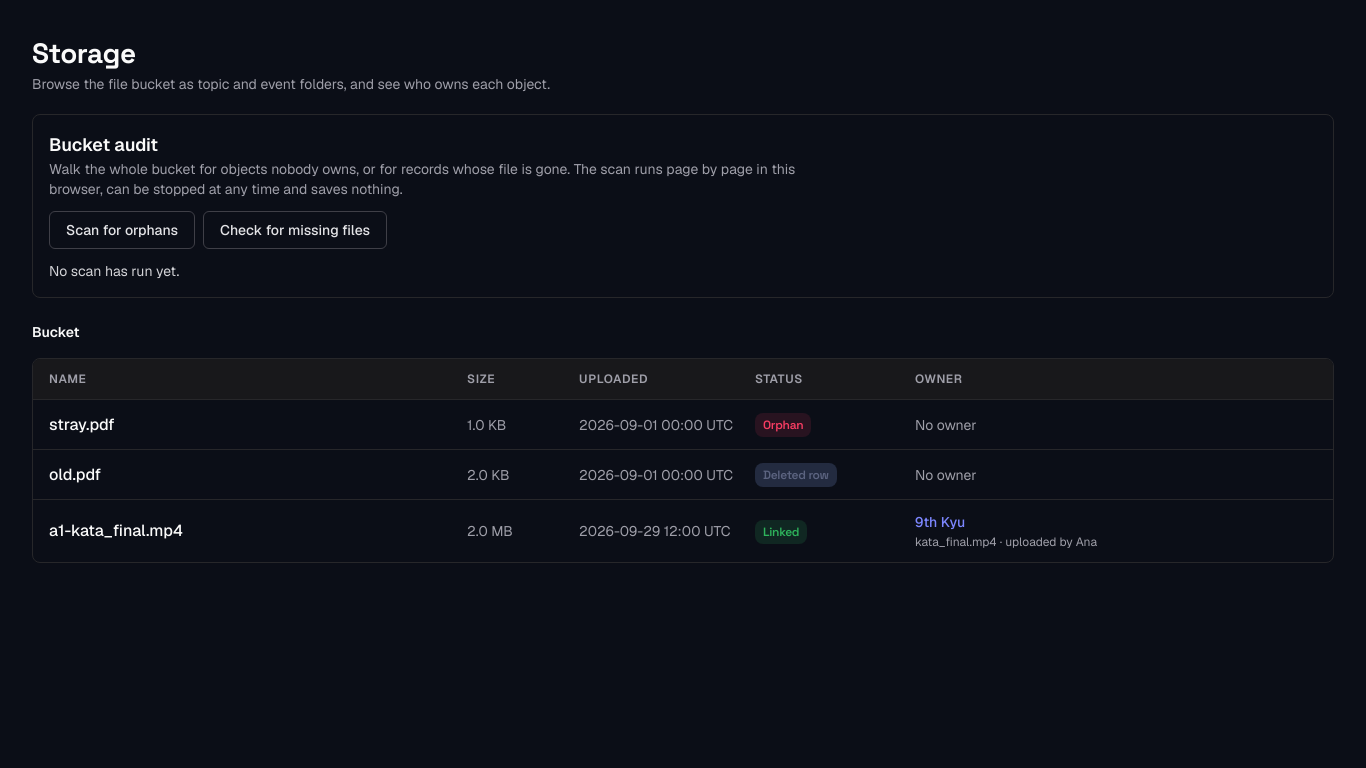
delete orphan action › on 409 shows the server classification and refreshes the badge in results and listing
Click the button "Scan for orphans" at (122, 230), box left=49, top=211, right=195, bottom=249
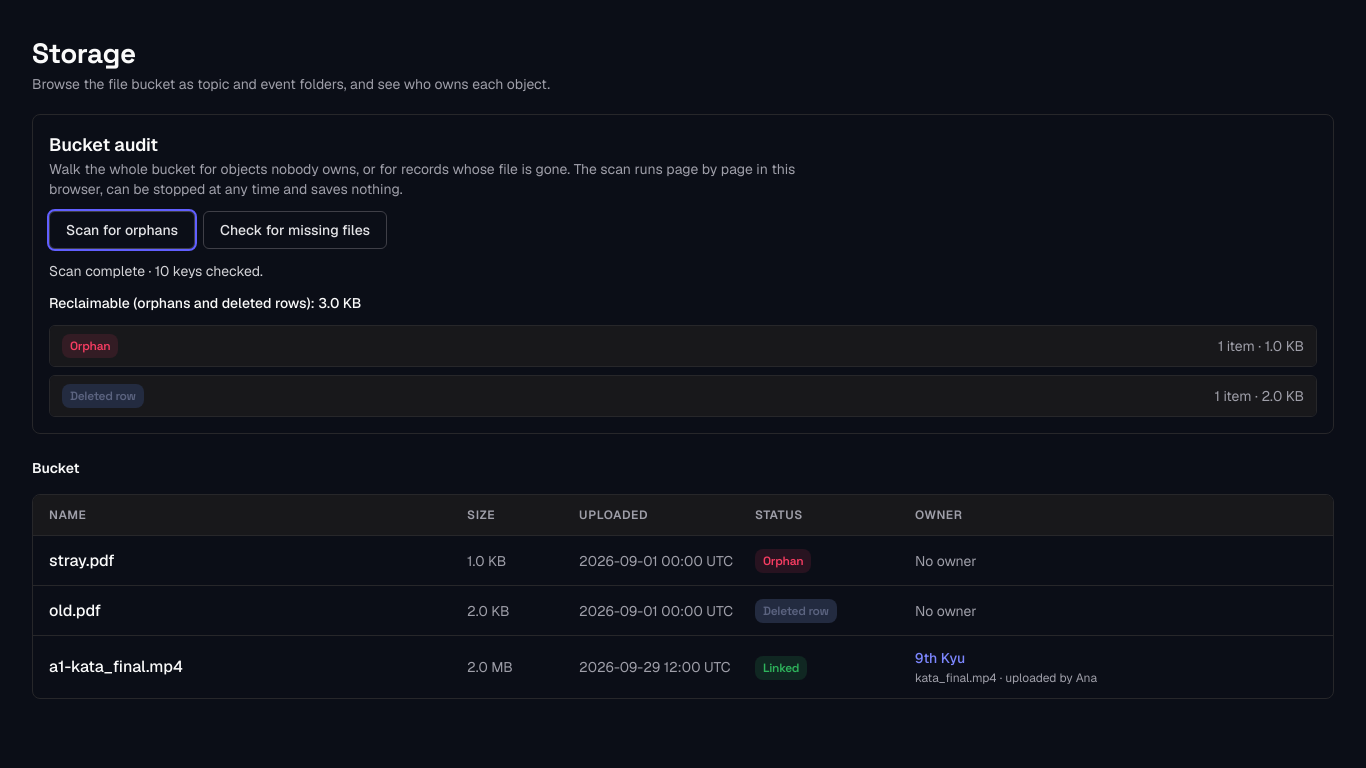
Click the button "Orphan 1 item · 1.0 KB" at (90, 346), box left=50, top=326, right=1316, bottom=366
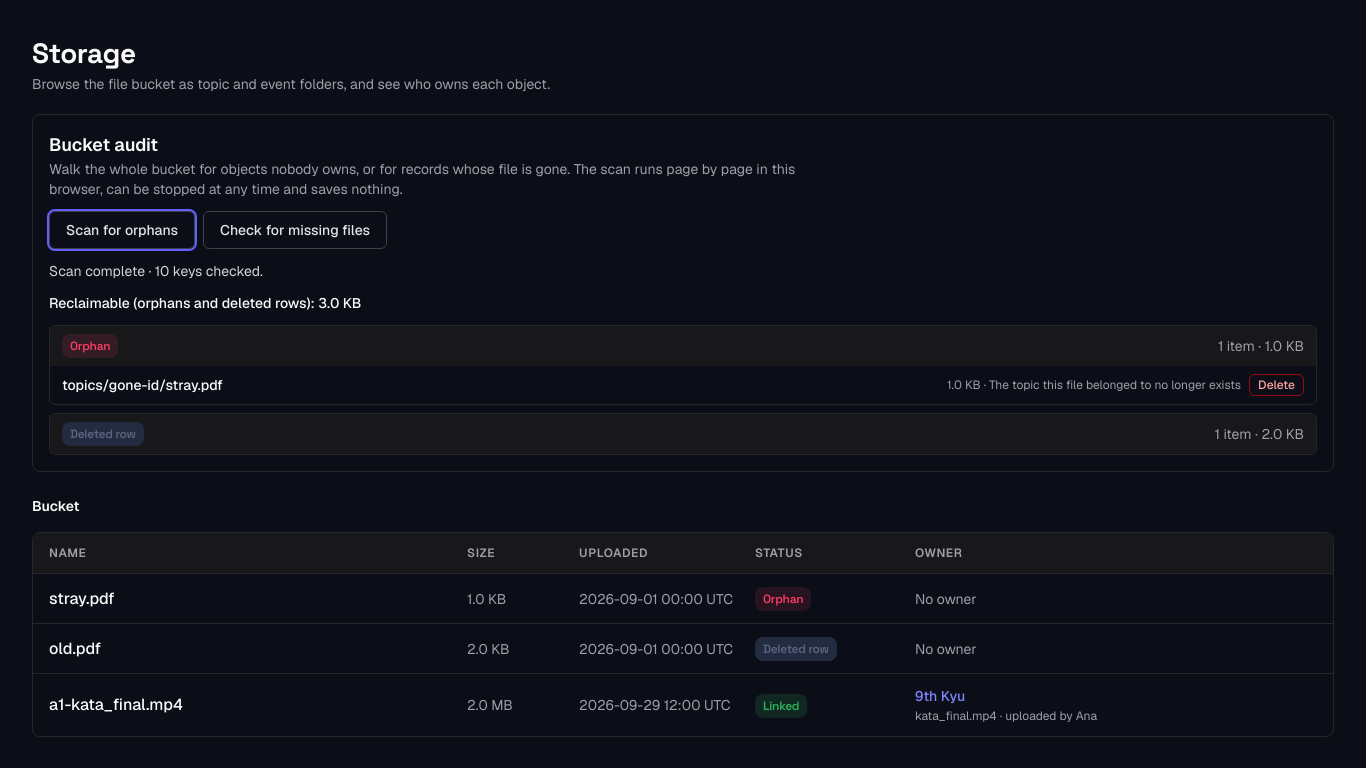
Click the button "Delete" at (1277, 385), box left=1249, top=374, right=1304, bottom=396
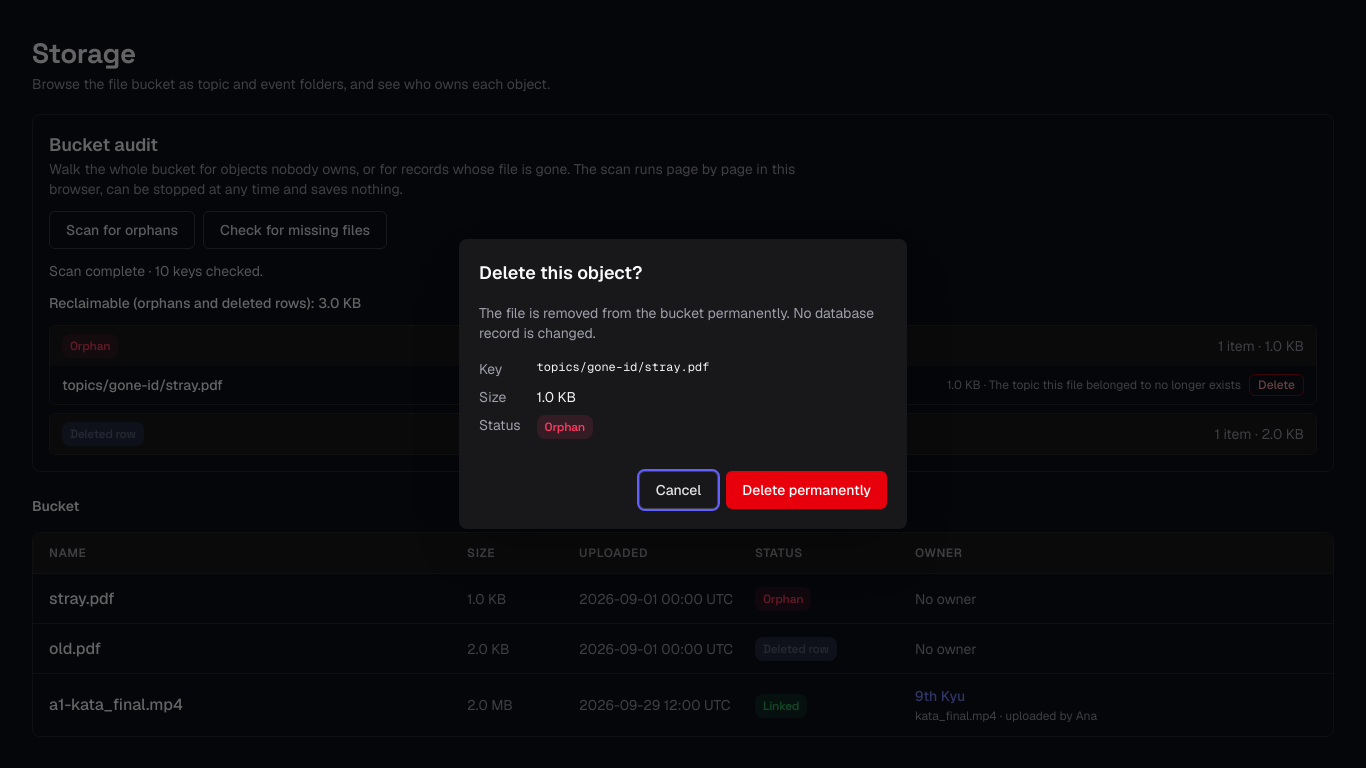
Click the button "Delete permanently" at (807, 490), box left=726, top=471, right=887, bottom=509
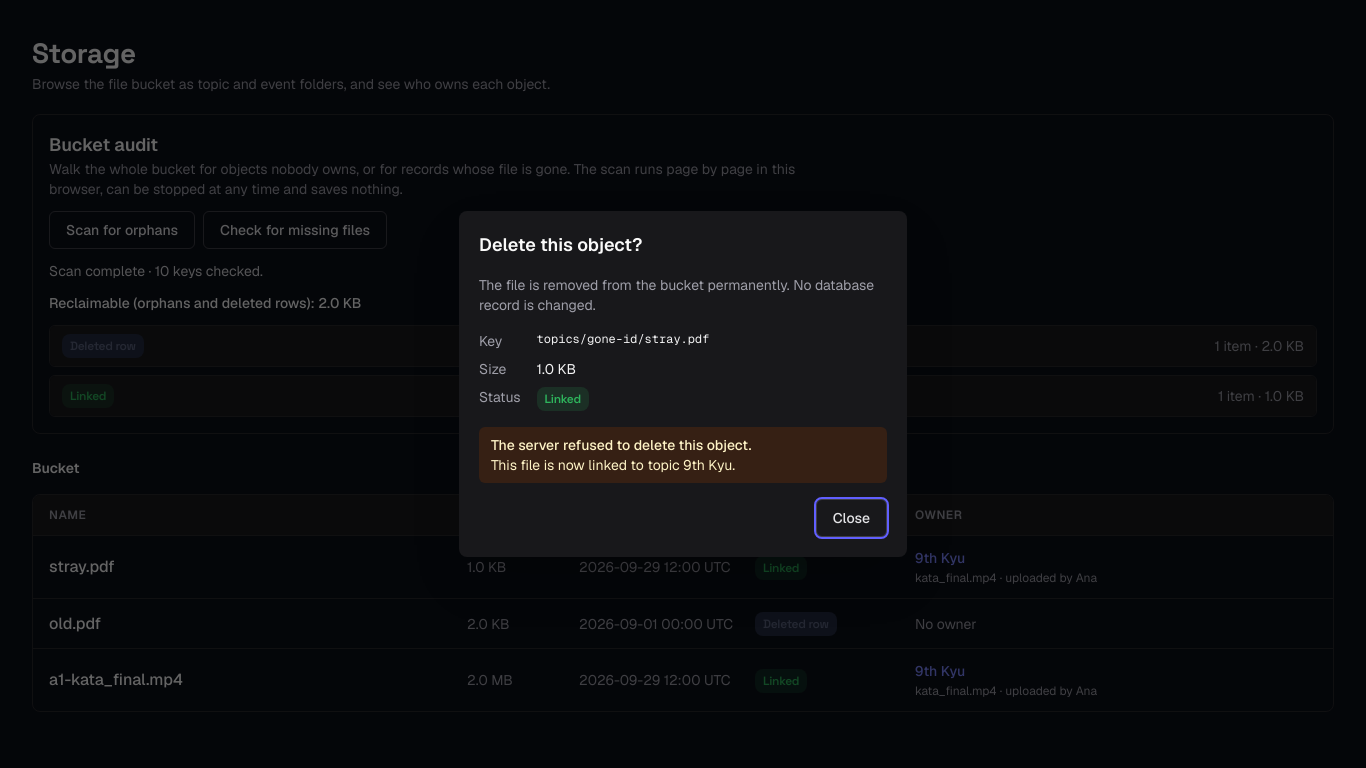
Now the text "The server refused to delete this object." is shown, box left=491, top=436, right=751, bottom=454
Now the element with test id "delete-dialog-status" reads "Linked", box left=545, top=391, right=581, bottom=407
Now the button "Delete permanently" is gone
Click the button "Close" at (851, 518), box left=816, top=499, right=887, bottom=537
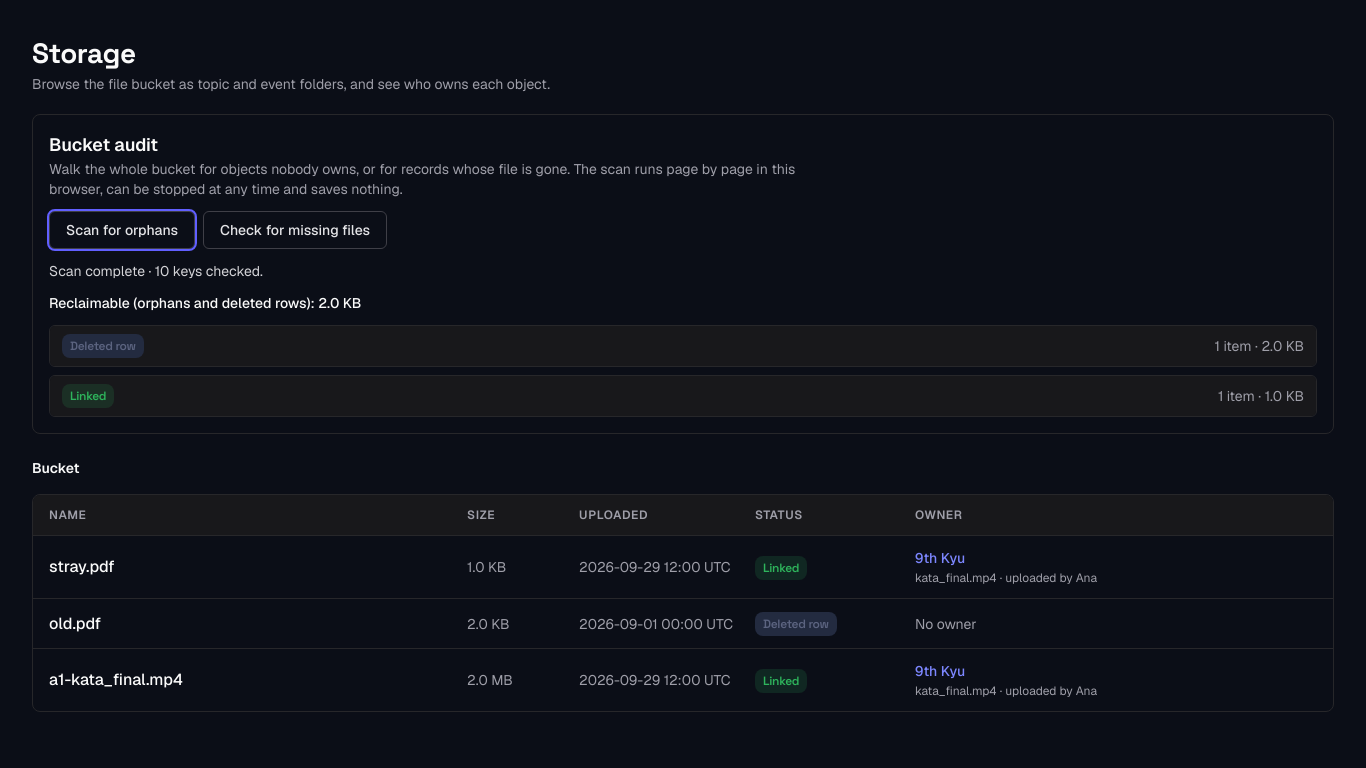
Now the dialog is gone
